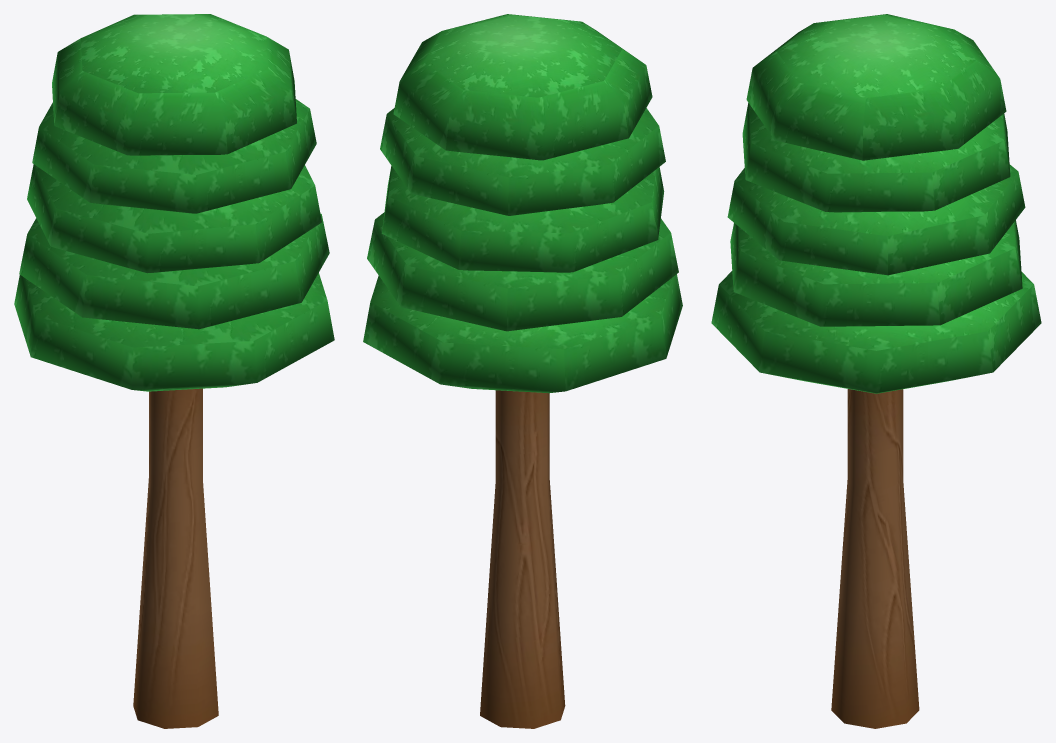
Rendered from french_tree_03.glb.
3 views of the same model, side by side, from view 1: azimuth 30°, elevation 25°; view 2: azimuth 150°, elevation 25°; view 3: azimuth 270°, elevation 25° (orthographic).
Parts seen in each view (by area): view 1: french_trees:polySurface3692; view 2: french_trees:polySurface3692; view 3: french_trees:polySurface3692.
Boxes of the visible parts, box(x1,y1,x2,y2) form: french_trees:polySurface3692: box(14, 14, 334, 728); french_trees:polySurface3692: box(363, 14, 682, 728); french_trees:polySurface3692: box(711, 14, 1041, 728).
Bounding box in the file's own units: 1.58 × 3.53 × 1.58.
1 material, 1 textured.
